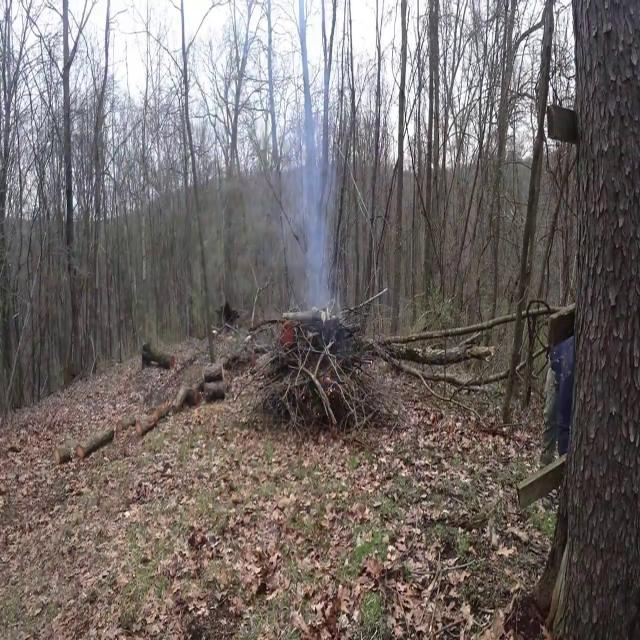Smoke: (284, 93, 342, 322)
